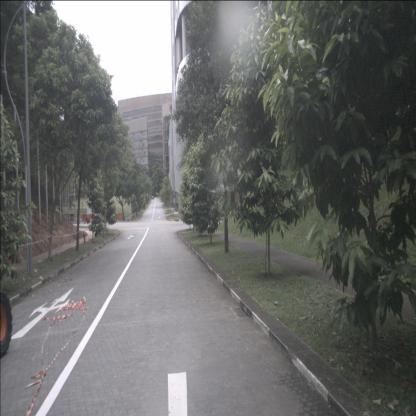movable_object-barrier: (82, 214, 91, 222), (116, 212, 124, 220), (74, 214, 82, 221), (66, 214, 74, 221)
